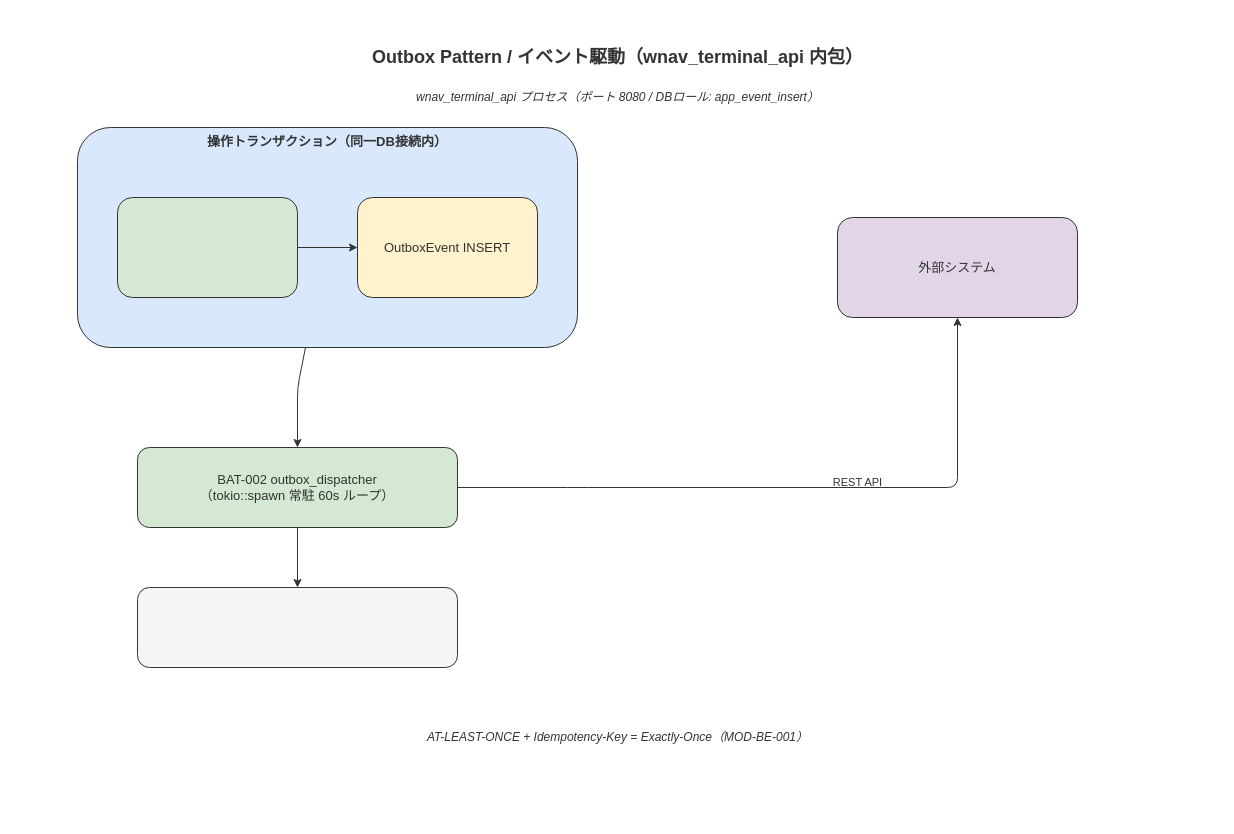
This 1234x834 diagram has some shape labels left out. The centre of each missing label's shape, as x and y in pixels:
Outbox テーブル (DB): the point at 297,627
WorkEvent INSERT: the point at 207,247
